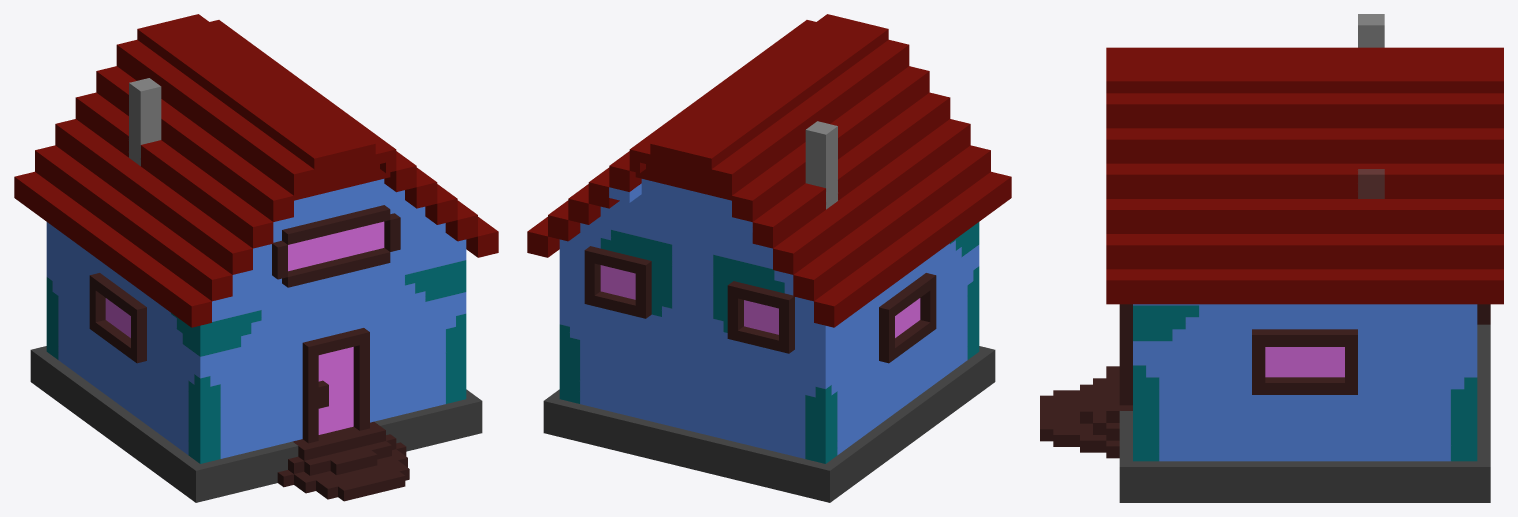
File: House_6.fbx
The picture shows the model from 3 angles, left to right: view 1: azimuth 30°, elevation 25°; view 2: azimuth 150°, elevation 25°; view 3: azimuth 270°, elevation 25°; orthographic projection. The views are drawn at different scales.
Parts seen in each view (by area): view 1: House_6; view 2: House_6; view 3: House_6.
Part boxes in pixels (box(x1,y1,x2,y2)): House_6: box(14, 14, 498, 502); House_6: box(527, 14, 1011, 502); House_6: box(1040, 14, 1503, 502).
Bounding box in the file's own units: 30 × 30 × 35.
Materials: 1 (1 with a texture image).
